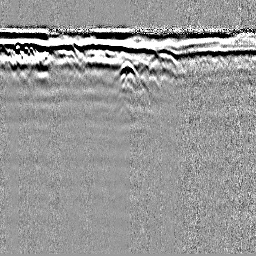cavity: (115, 58, 138, 79)
